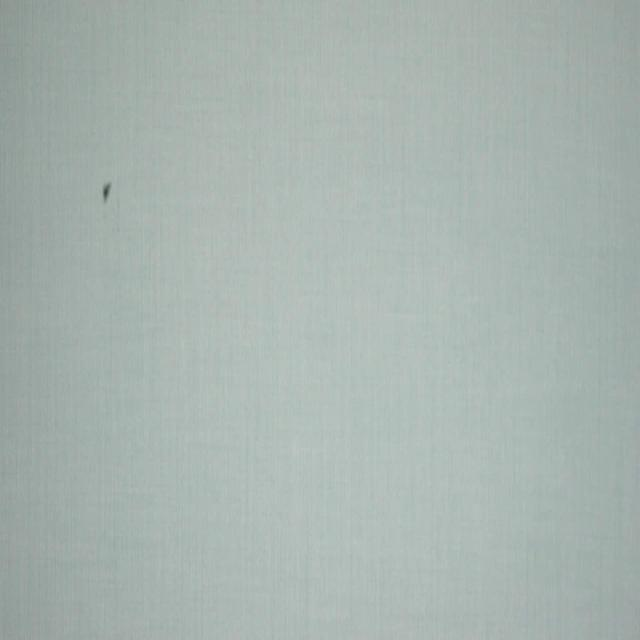dirty: (102, 183, 112, 203)
